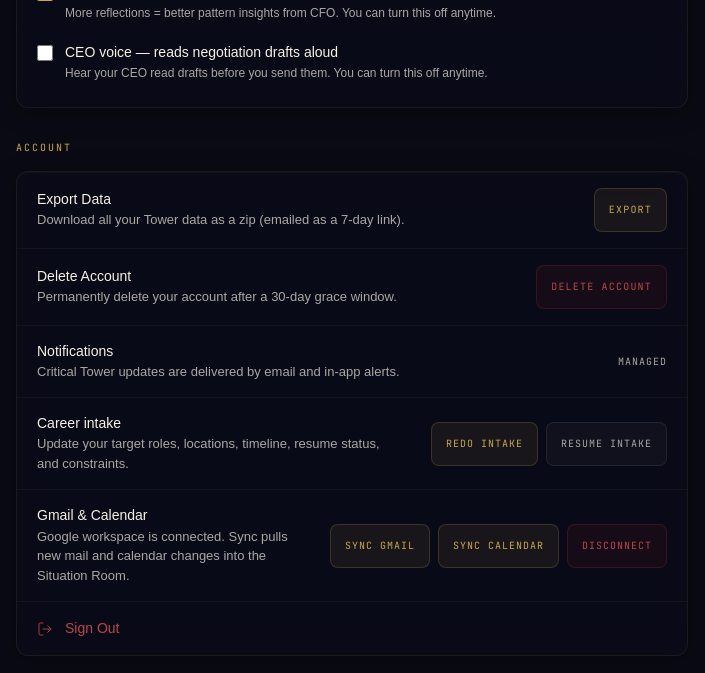
it: SettingsClient connected services › disconnects Google and returns the settings row to the connect state
(page scrolled)
What coordinates should you click on to do the following:
click the button "Disconnect"
I would click on:
 (617, 546)
Its box is x1=567 y1=524 x2=667 y2=568.
(page scrolled)
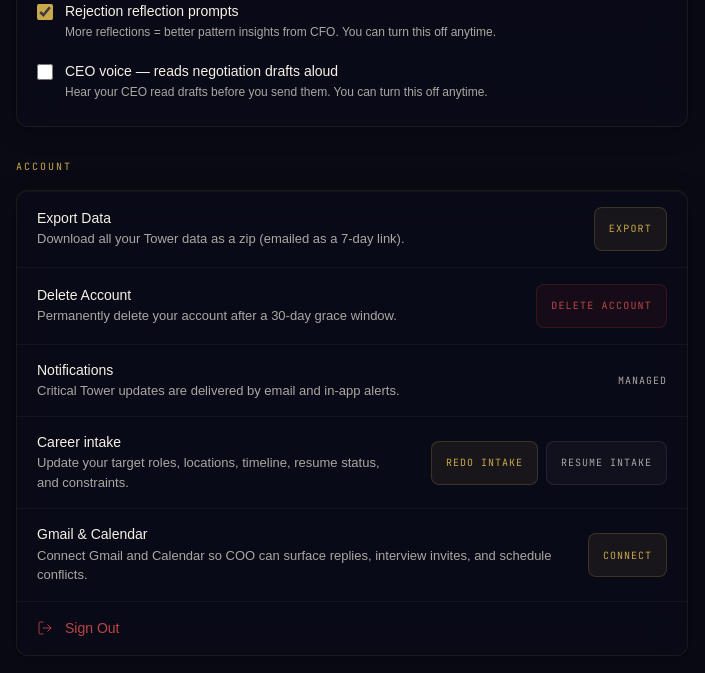
Expected: the text "Connect Gmail and Calendar" is shown, x1=37 y1=548 x2=552 y2=582
Expected: the text "Sync Gmail" is gone
